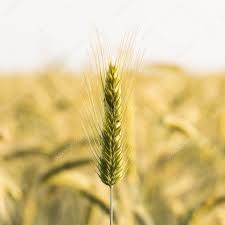Healthy Wheat: (92, 58, 130, 188)
